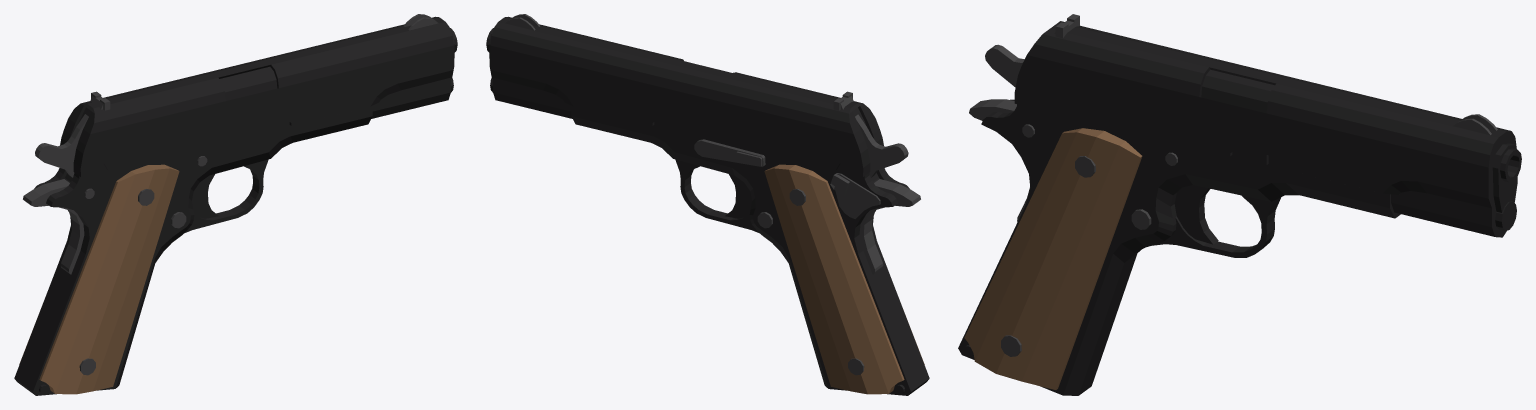
File: SM_Pistol_01.glb
3 views of the same model, side by side, from view 1: azimuth 30°, elevation 25°; view 2: azimuth 150°, elevation 25°; view 3: azimuth 330°, elevation 25° (orthographic). The views are drawn at different scales.
Parts seen in each view (by area): view 1: SM_Pistol_01; view 2: SM_Pistol_01; view 3: SM_Pistol_01.
Boxes of the visible parts, x1,y1,x2,y2 form: SM_Pistol_01: (14, 14, 457, 395); SM_Pistol_01: (486, 14, 929, 395); SM_Pistol_01: (958, 14, 1521, 395).
Size of the model in its own units: 0.3266 by 0.2121 by 0.0437.
Materials: 1 (1 with a texture image).
